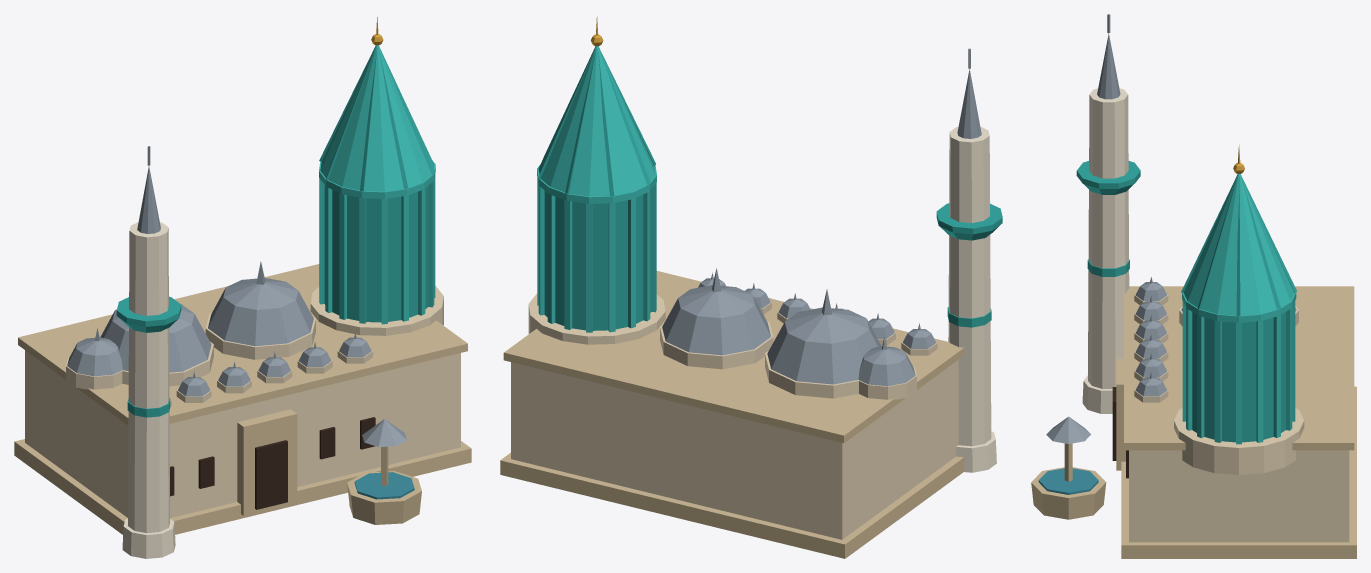
Rendered from konya.glb.
The picture shows the model from 3 angles, left to right: view 1: azimuth 30°, elevation 25°; view 2: azimuth 150°, elevation 25°; view 3: azimuth 270°, elevation 25°; orthographic projection. The views are drawn at different scales.
Visible parts, largest first — view 1: mevlana; view 2: mevlana; view 3: mevlana.
Boxes of the visible parts, box(x1,y1,x2,y2) form: mevlana: box(14, 17, 471, 558); mevlana: box(500, 16, 1002, 558); mevlana: box(1031, 14, 1356, 558).
Bounding box in the file's own units: 8.51 × 8.8 × 6.5.
